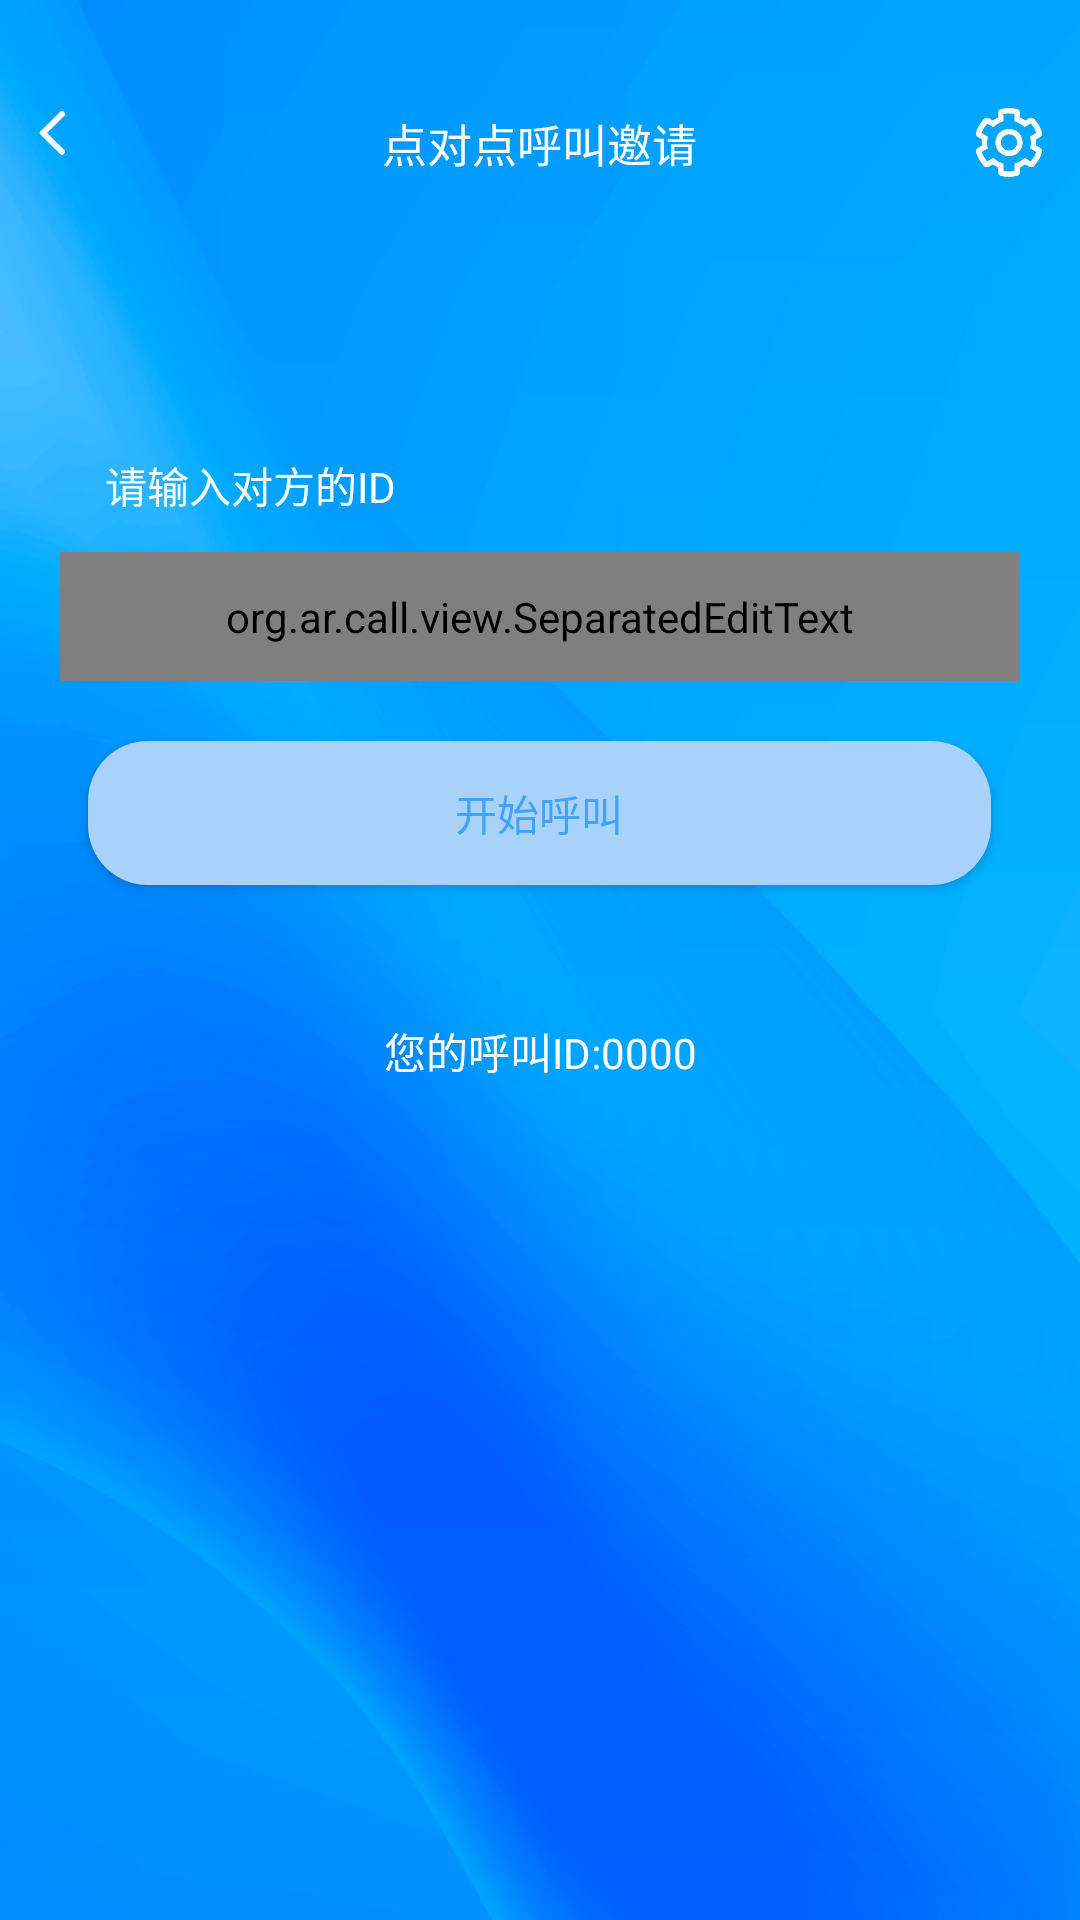

Icon bounding boxes for this 1080*1920 phone screenshot, format detection(x1, y1, x2, y2):
setting: detection(976, 108, 1042, 177)
